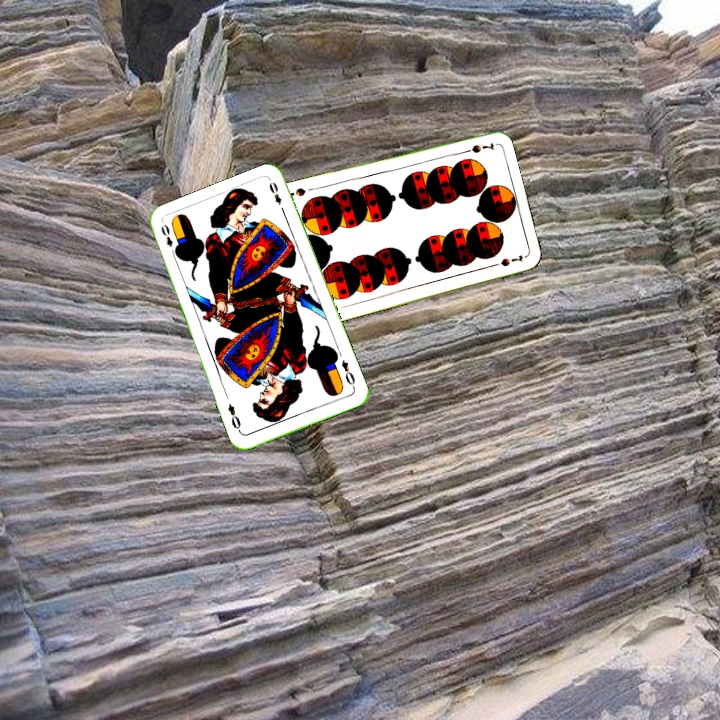EO: (157, 220, 179, 259), (337, 356, 358, 391)
S7: (456, 139, 496, 157)
